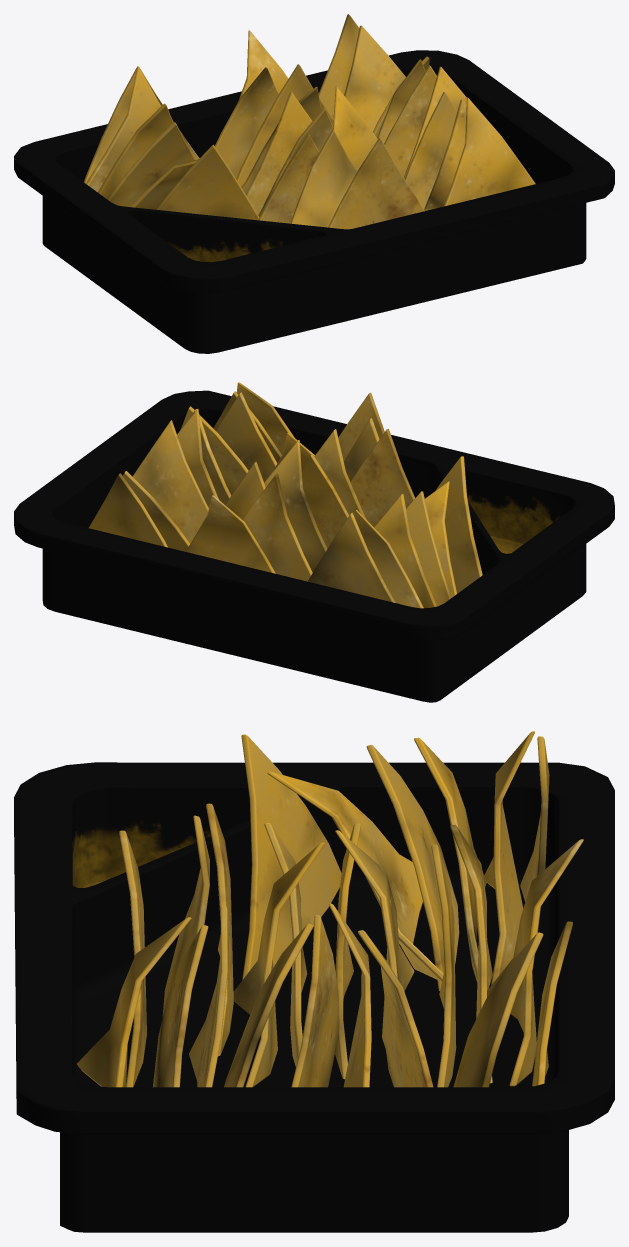
Rendered from nachos_tray_bp.fbx.
The picture shows the model from 3 angles, top to bottom: view 1: azimuth 30°, elevation 25°; view 2: azimuth 150°, elevation 25°; view 3: azimuth 270°, elevation 25°; orthographic projection. The views are drawn at different scales.
Visible parts, largest first — view 1: tray.003, nacho_25.002, nacho_16.003, nacho_6.003, nacho_15.003, nacho_18.002, nacho_8.003, nacho_4.003, nacho_23.002, nacho_11.003, nacho_21.002, nacho_2.003 (+13 smaller); view 2: tray.003, nacho_19.002, nacho_1.003, nacho_8.003, nacho_14.003, nacho_7.003, nacho_6.003, nacho_10.003, nacho_17.003, nacho_23.002, nacho_3.003, nacho_11.003 (+13 smaller); view 3: tray.003, nacho_6.003, nacho_5.003, nacho_4.003, nacho_21.002, nacho_18.002, nacho_2.003, nacho_25.002, nacho_13.003, nacho_19.002, nacho_7.003, nacho_24.002 (+14 smaller).
Part boxes in pixels (x1=…): tray.003: x1=14, y1=50, x2=614, y2=353; nacho_25.002: x1=443, y1=97, x2=535, y2=206; nacho_16.003: x1=328, y1=138, x2=424, y2=229; nacho_6.003: x1=156, y1=144, x2=259, y2=220; nacho_15.003: x1=290, y1=130, x2=357, y2=227; nacho_18.002: x1=344, y1=25, x2=405, y2=131; nacho_8.003: x1=215, y1=67, x2=278, y2=178; nacho_4.003: x1=107, y1=122, x2=195, y2=206; nacho_23.002: x1=405, y1=92, x2=457, y2=209; nacho_11.003: x1=246, y1=91, x2=312, y2=214; nacho_21.002: x1=384, y1=65, x2=436, y2=177; nacho_2.003: x1=86, y1=67, x2=160, y2=192; tray.003: x1=14, y1=390, x2=614, y2=702; nacho_19.002: x1=132, y1=420, x2=208, y2=543; nacho_1.003: x1=308, y1=512, x2=395, y2=602; nacho_8.003: x1=243, y1=473, x2=312, y2=581; nacho_14.003: x1=350, y1=428, x2=414, y2=526; nacho_7.003: x1=185, y1=495, x2=275, y2=573; nacho_6.003: x1=435, y1=456, x2=482, y2=593; nacho_10.003: x1=264, y1=440, x2=327, y2=572; nacho_17.003: x1=88, y1=473, x2=168, y2=547; nacho_23.002: x1=216, y1=392, x2=277, y2=482; nacho_3.003: x1=374, y1=494, x2=436, y2=608; nacho_11.003: x1=302, y1=454, x2=349, y2=548; tray.003: x1=14, y1=762, x2=614, y2=1232; nacho_6.003: x1=241, y1=734, x2=341, y2=979; nacho_5.003: x1=267, y1=771, x2=443, y2=981; nacho_4.003: x1=366, y1=745, x2=459, y2=990; nacho_21.002: x1=291, y1=915, x2=339, y2=1087; nacho_18.002: x1=453, y1=932, x2=543, y2=1087; nacho_2.003: x1=484, y1=731, x2=534, y2=984; nacho_25.002: x1=77, y1=917, x2=191, y2=1087; nacho_13.003: x1=233, y1=842, x2=324, y2=1087; nacho_19.002: x1=358, y1=930, x2=433, y2=1087; nacho_7.003: x1=487, y1=839, x2=583, y2=1086; nacho_24.002: x1=153, y1=925, x2=208, y2=1087.
Bounding box in the file's own units: 13 × 4.52 × 9.45.
